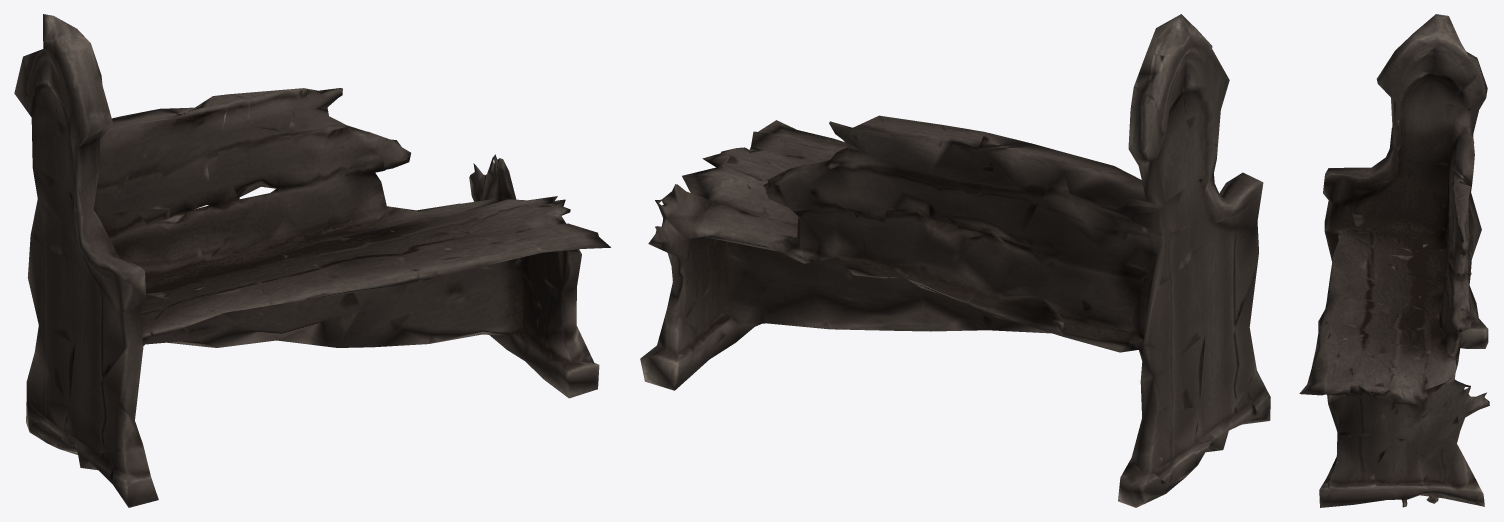
Rendered from pew_broken.glb.
The picture shows the model from 3 angles, left to right: view 1: azimuth 30°, elevation 25°; view 2: azimuth 150°, elevation 25°; view 3: azimuth 270°, elevation 25°; orthographic projection. The views are drawn at different scales.
Size of the model in its own units: 1.97 by 1.68 by 0.8855.
1 material, 1 textured.
